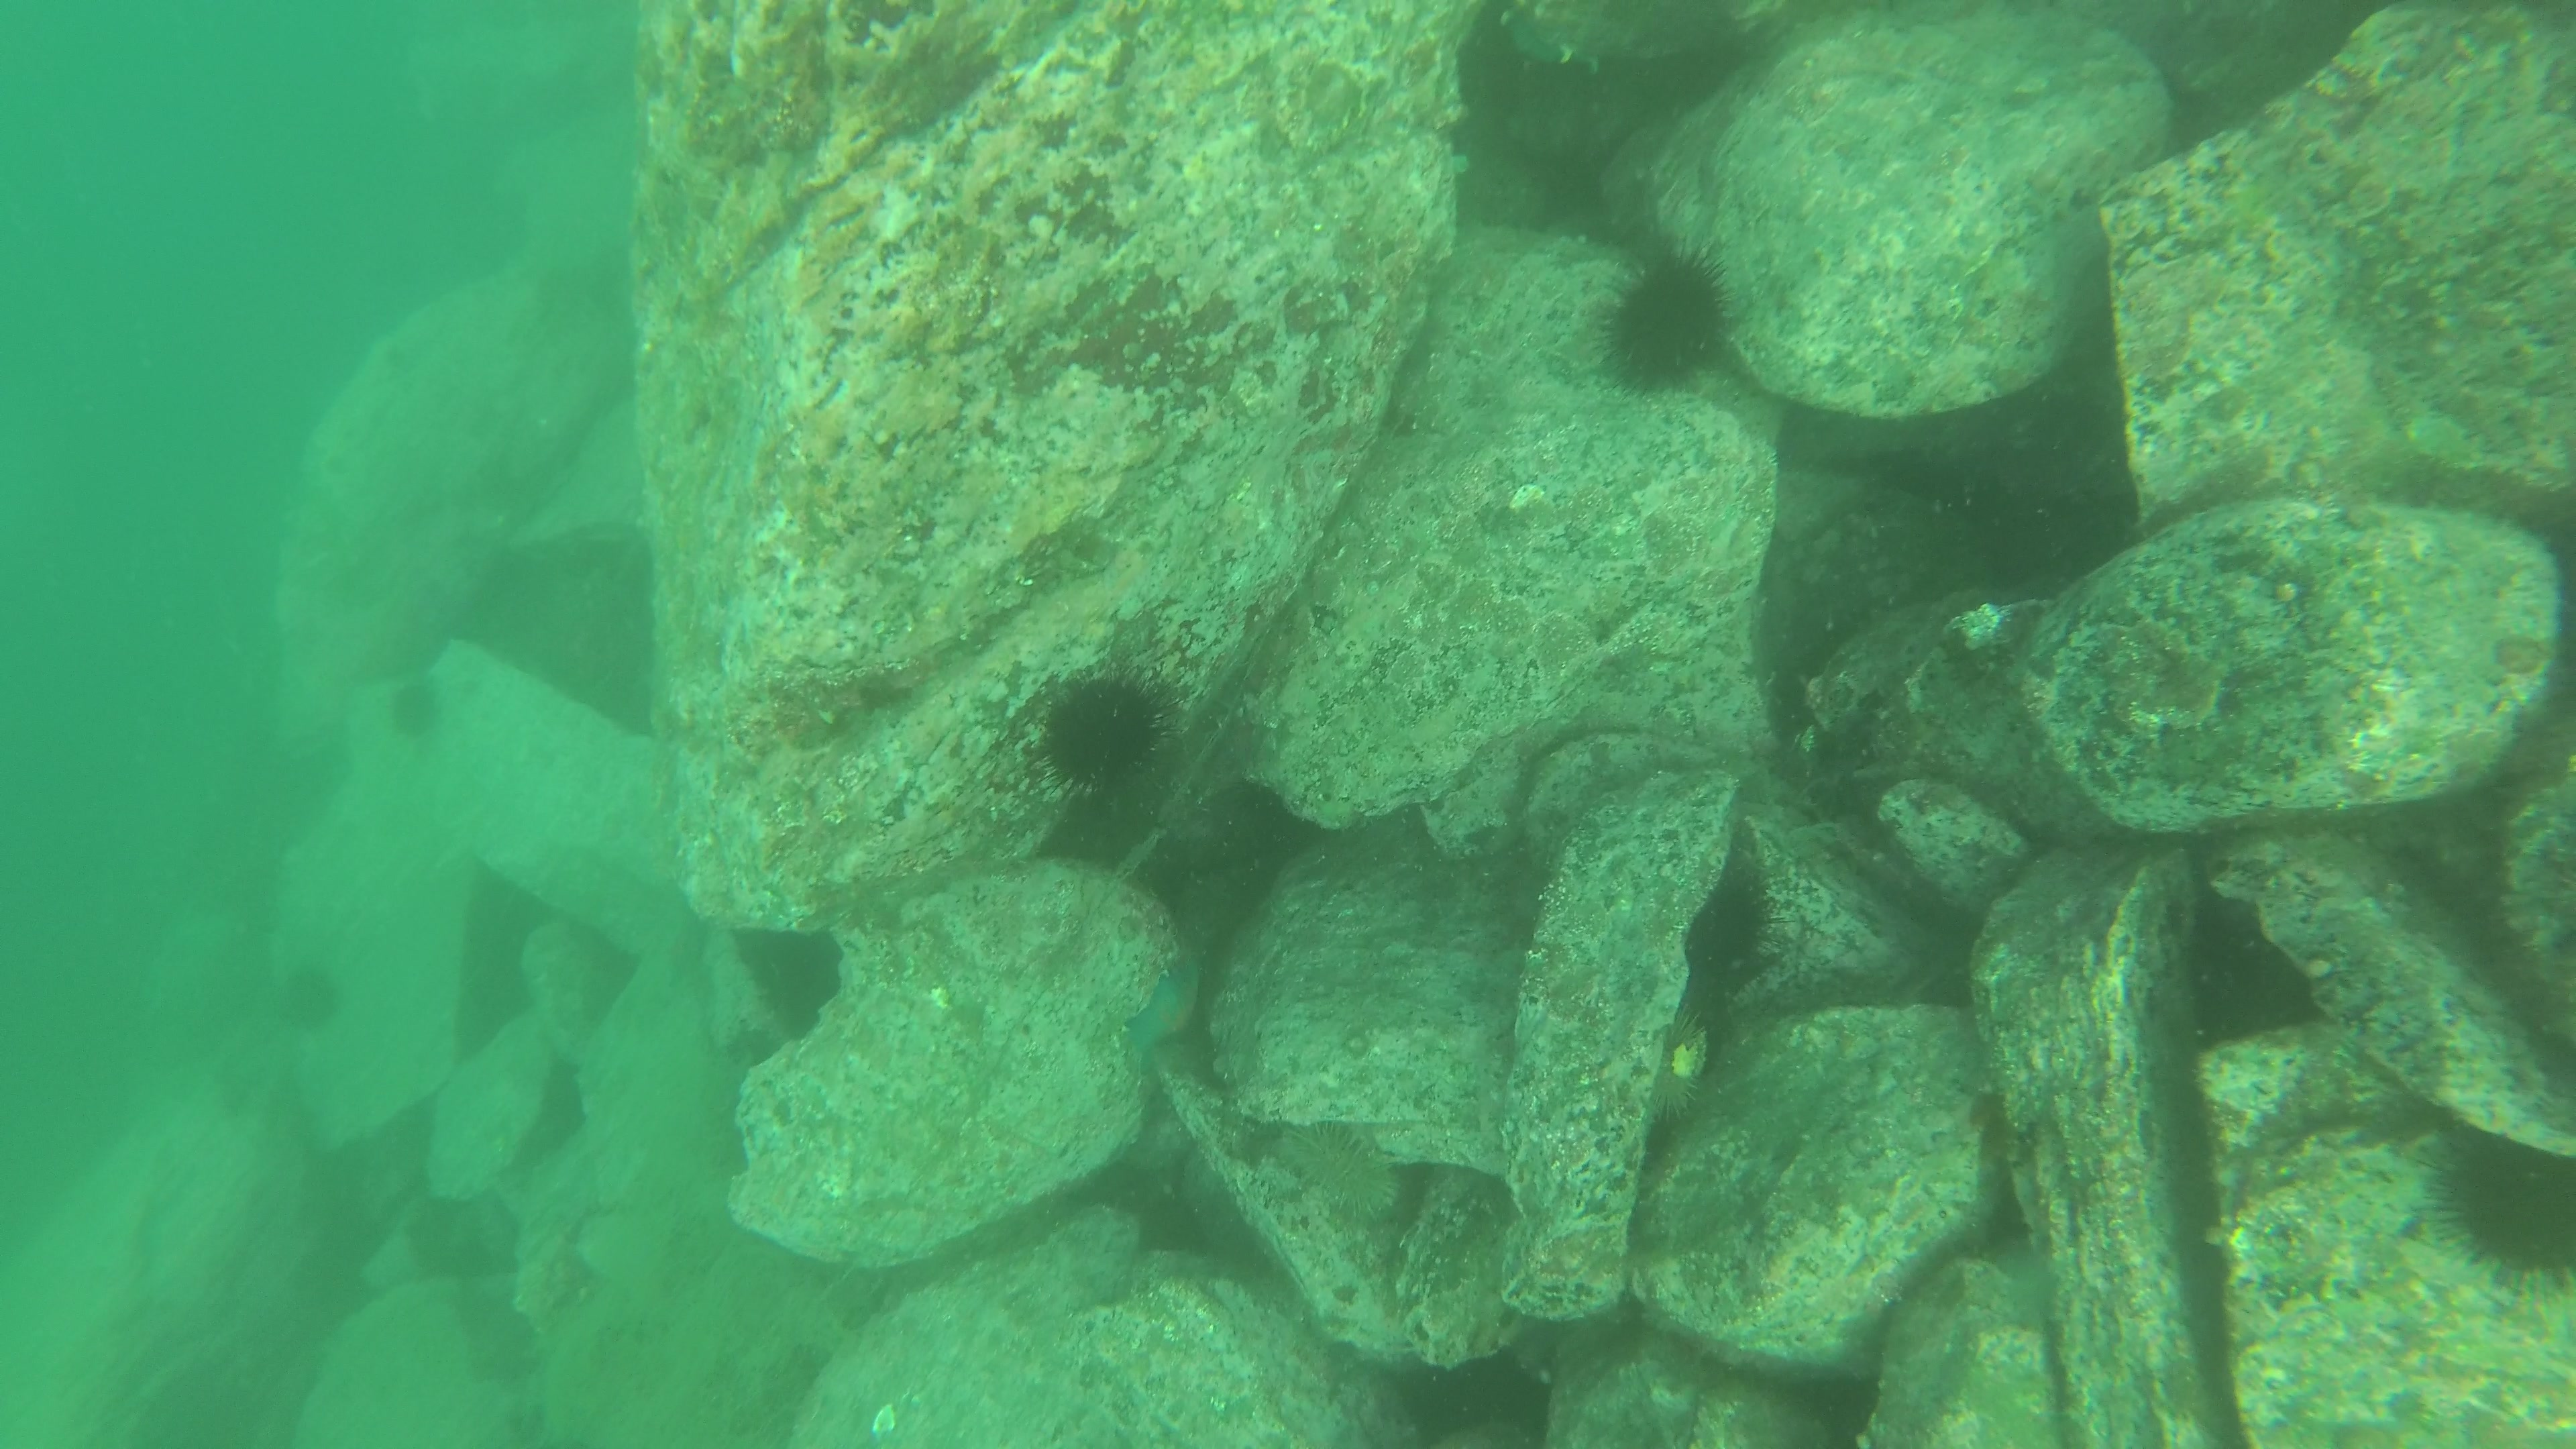echinus: (2424, 1116, 2576, 1283), (1037, 667, 1178, 810), (1605, 242, 1736, 396), (1281, 1111, 1407, 1231), (1688, 842, 1782, 977), (1642, 1016, 1716, 1125), (269, 962, 343, 1035), (380, 679, 444, 736)
